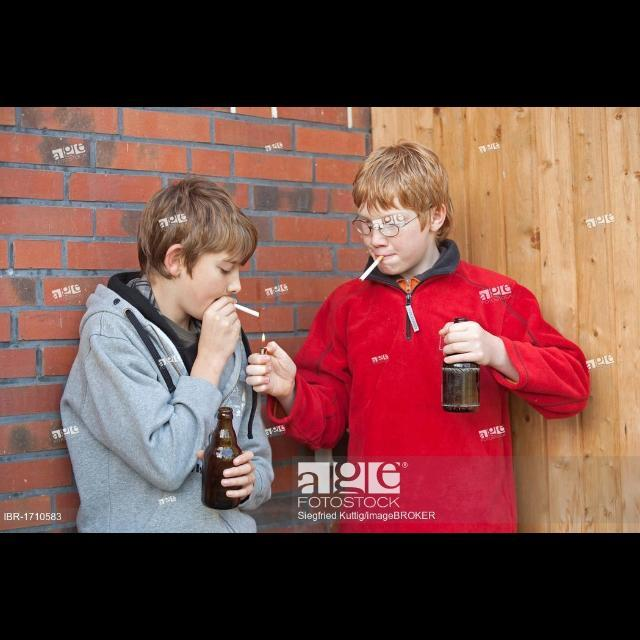rokok: (354, 254, 384, 282), (232, 296, 262, 322)
